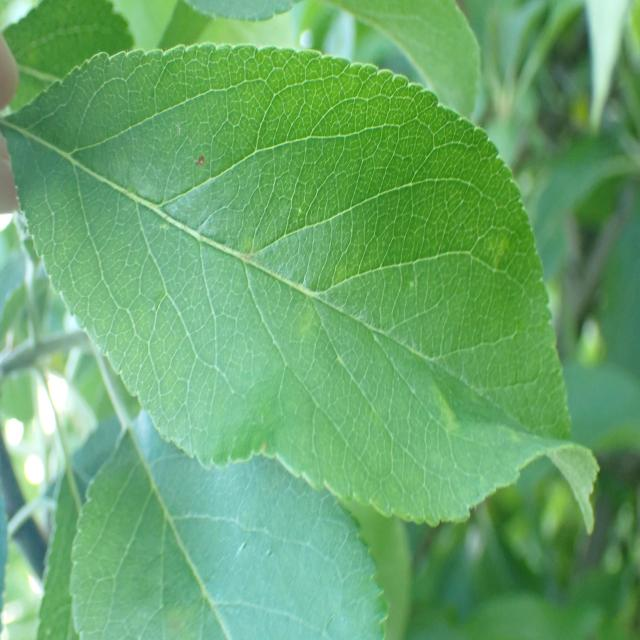scab: (60, 65, 549, 447)
